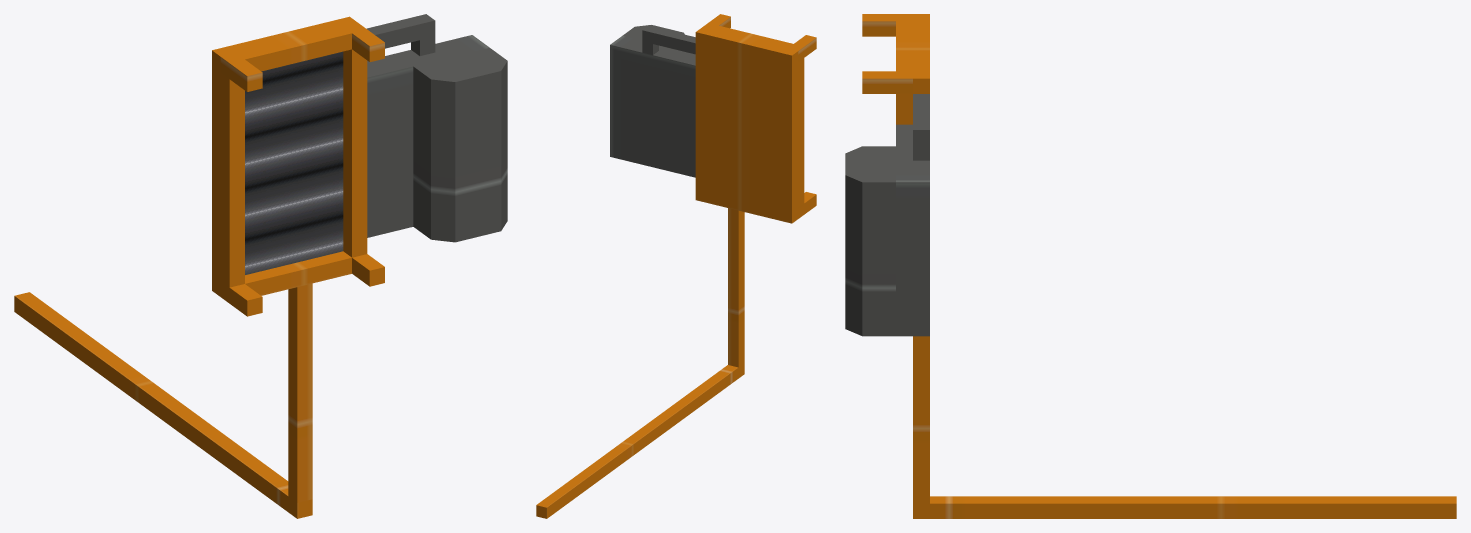
Rendered from camera_holder.vmf.obj.
3 views of the same model, side by side, from view 1: azimuth 30°, elevation 25°; view 2: azimuth 150°, elevation 25°; view 3: azimuth 270°, elevation 25° (orthographic). The views are drawn at different scales.
Parts seen in each view (by area): view 1: 9, 4, 3, 16, 13, 15, 8, 11, 6, 5, 12, 14 (+2 smaller); view 2: 9, 3, 16, 15, 8, 13, 11, 5, 6, 12; view 3: 16, 4, 3, 15, 11, 10, 12, 5.
Boxes of the visible parts, <box> form: 9: <box>212,16,357,296</box>; 4: <box>413,48,507,242</box>; 3: <box>367,35,489,237</box>; 16: <box>14,292,312,518</box>; 13: <box>212,67,244,287</box>; 15: <box>288,283,312,502</box>; 8: <box>343,49,367,257</box>; 11: <box>228,22,351,71</box>; 6: <box>245,251,351,295</box>; 5: <box>366,14,435,48</box>; 12: <box>220,53,262,91</box>; 14: <box>220,281,262,316</box>; 9: <box>695,27,798,223</box>; 3: <box>610,36,695,177</box>; 16: <box>536,363,744,518</box>; 15: <box>728,208,744,367</box>; 8: <box>695,43,706,191</box>; 13: <box>789,58,804,210</box>; 11: <box>706,26,792,52</box>; 5: <box>642,26,695,54</box>; 6: <box>706,192,777,217</box>; 12: <box>788,35,816,61</box>; 16: <box>913,496,1456,518</box>; 4: <box>845,146,895,336</box>; 3: <box>896,124,929,336</box>; 15: <box>913,336,929,503</box>; 11: <box>896,21,929,71</box>; 10: <box>862,71,912,93</box>; 12: <box>862,14,912,36</box>; 5: <box>913,94,929,145</box>.
Bounding box in the file's own units: 17 × 30 × 36.
3 materials, 3 textured.
